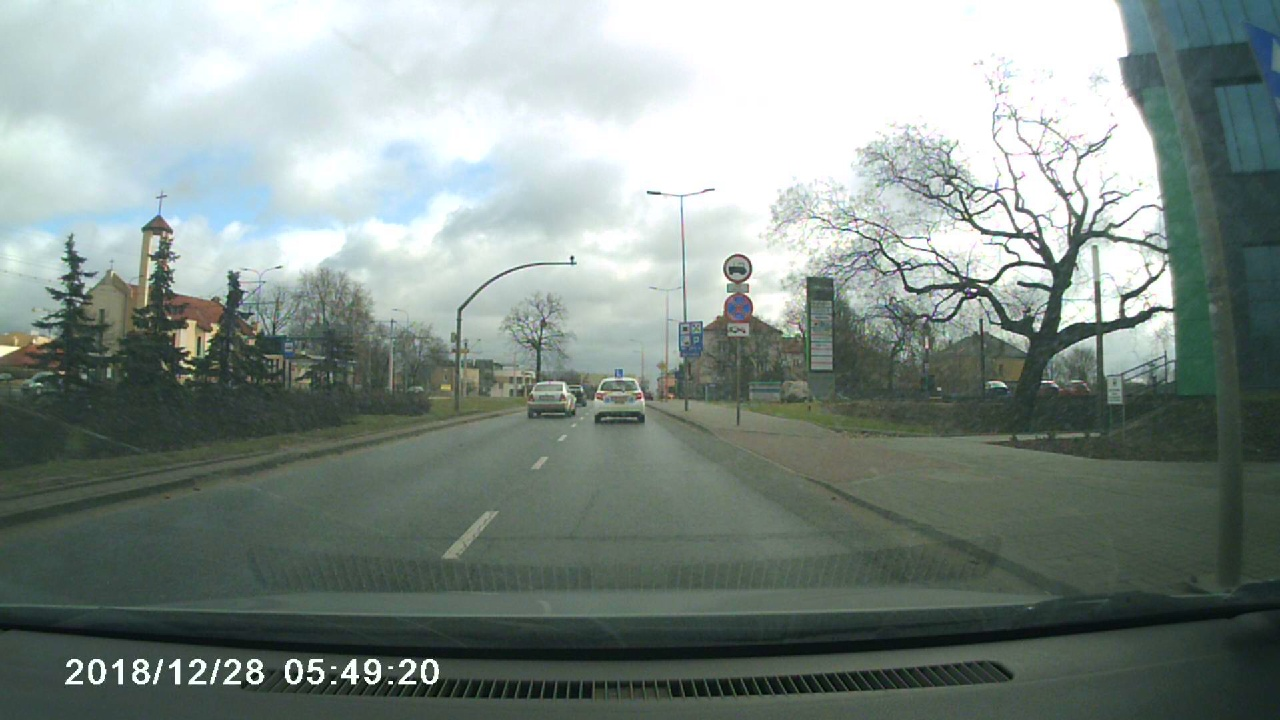B35: (722, 293, 755, 322)
